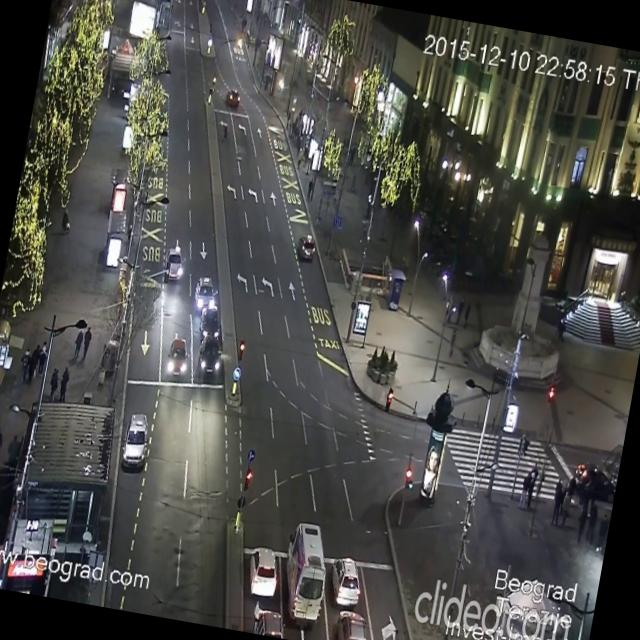bus: (274, 519, 336, 629)
car: (566, 455, 620, 505), (324, 554, 366, 610), (243, 544, 282, 600), (119, 410, 152, 471), (332, 608, 373, 640), (249, 606, 288, 638), (164, 336, 192, 378), (195, 342, 222, 380), (195, 278, 222, 316), (161, 244, 186, 284), (197, 309, 222, 342), (294, 232, 318, 262), (224, 87, 241, 108)
